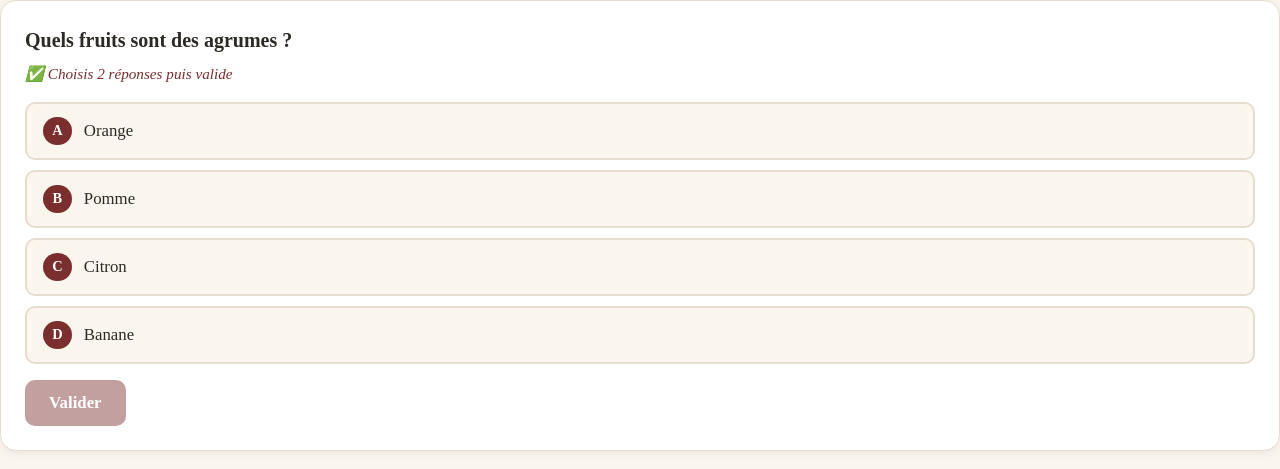
Test: QuestionCard - multi mode (several correct answers) › handles selection/deselection with aria-pressed and enables Valider when the count matches
The image size is (1280, 469).
Click the button "A Orange" at (108, 130), box [25, 102, 1255, 160]
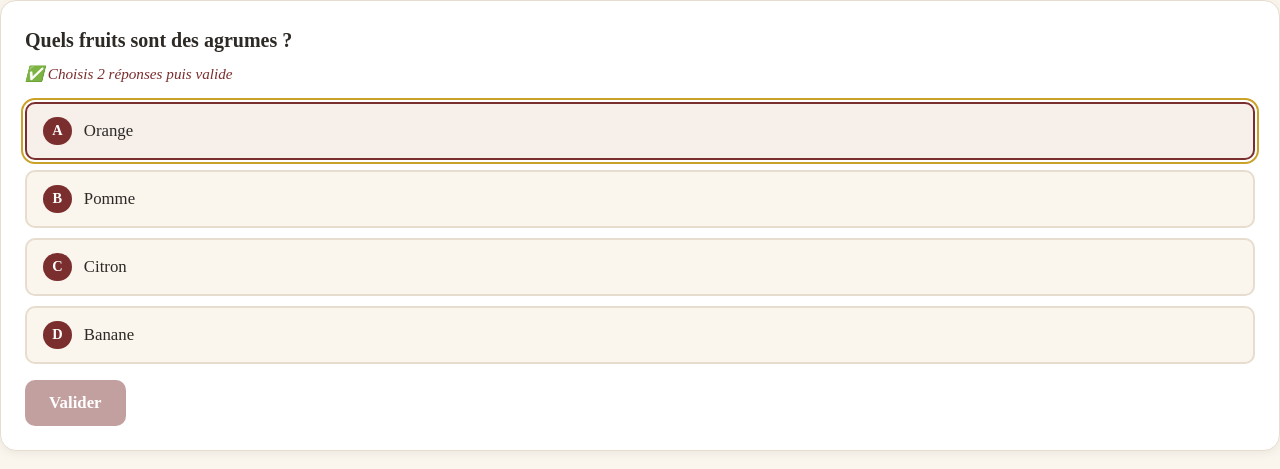
Expected: the button "Valider" is disabled, [25, 380, 126, 426]
Expected: the button "A Orange" is pressed, [25, 102, 1255, 160]
Click the button "C Citron" at (105, 266), box [25, 238, 1255, 296]
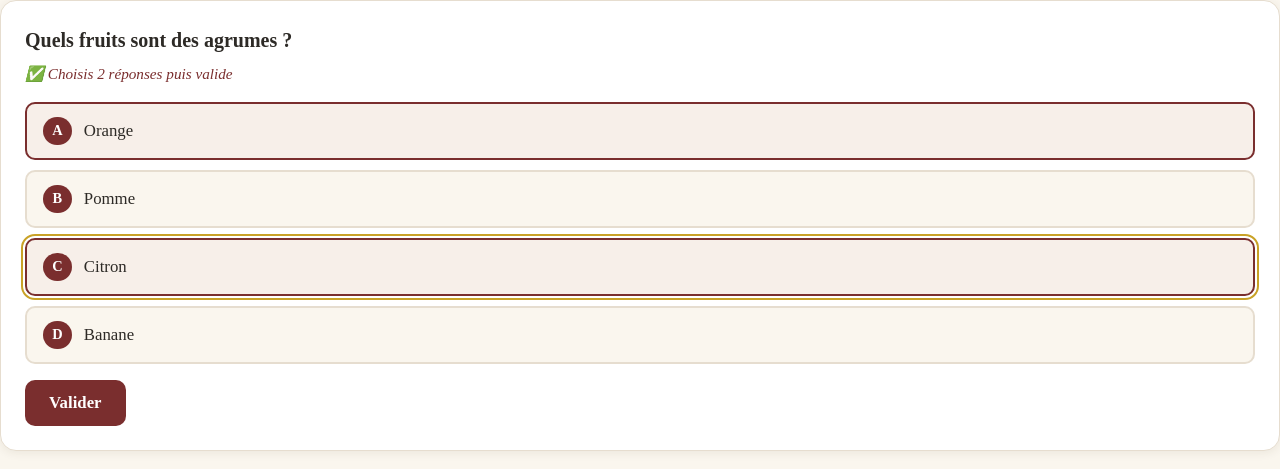
Expected: the button "Valider" is enabled, [25, 380, 126, 426]
# Deselecting: Valider becomes disabled again.
Click the button "A Orange" at (108, 130), box [25, 102, 1255, 160]
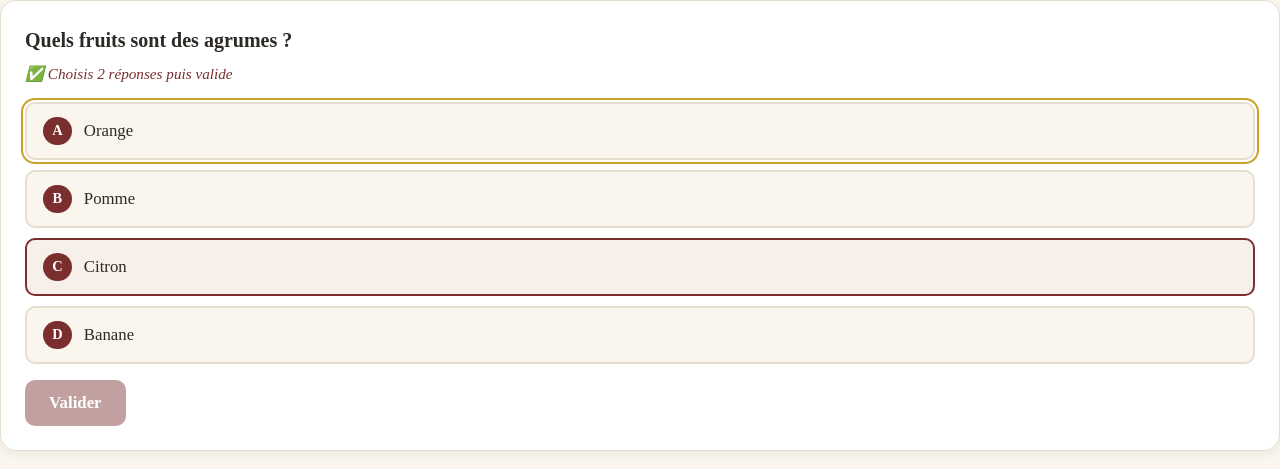
Expected: the button "Valider" is disabled, [25, 380, 126, 426]
